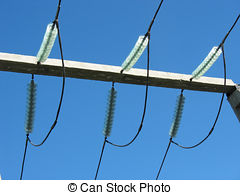isolator: (191, 45, 223, 80), (120, 35, 150, 71), (35, 23, 59, 63), (167, 95, 187, 138), (24, 81, 39, 134), (102, 88, 118, 137)
